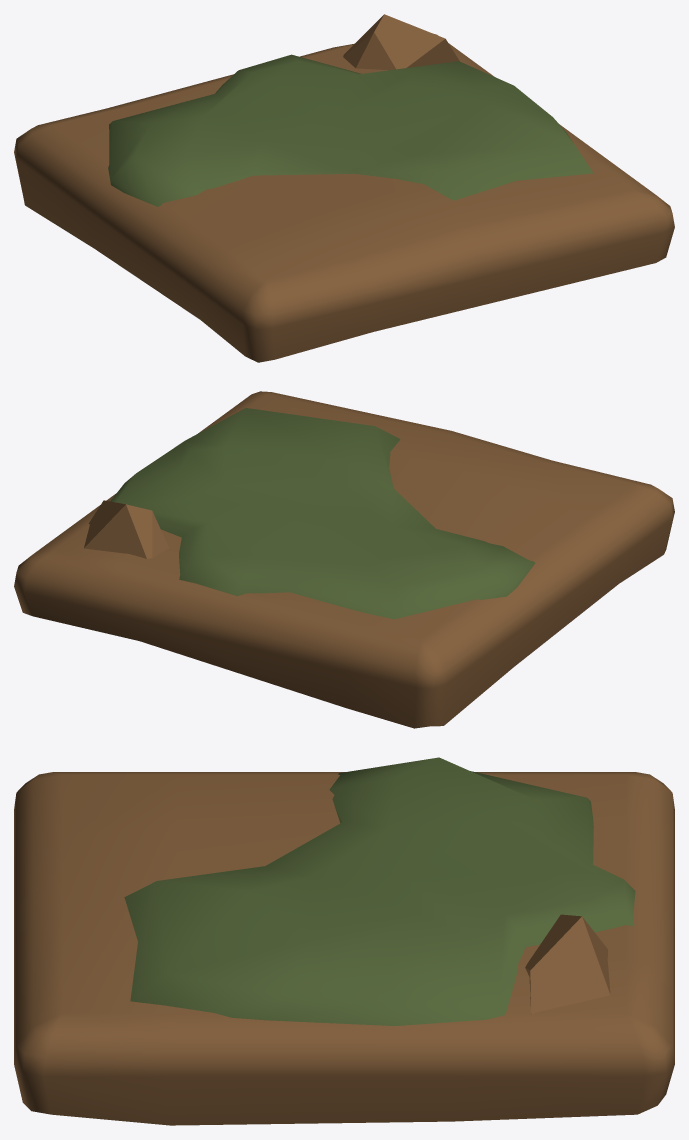
File: Tile_5.fbx
The picture shows the model from 3 angles, top to bottom: view 1: azimuth 30°, elevation 25°; view 2: azimuth 150°, elevation 25°; view 3: azimuth 270°, elevation 25°; orthographic projection. The views are drawn at different scales.
Visible parts, largest first — view 1: Tile_5; view 2: Tile_5; view 3: Tile_5.
Part boxes in pixels (bbox=[...]): Tile_5: bbox=[14, 14, 674, 362]; Tile_5: bbox=[14, 391, 674, 728]; Tile_5: bbox=[14, 757, 674, 1125].
Bounding box in the file's own units: 1 × 0.2751 × 1.
